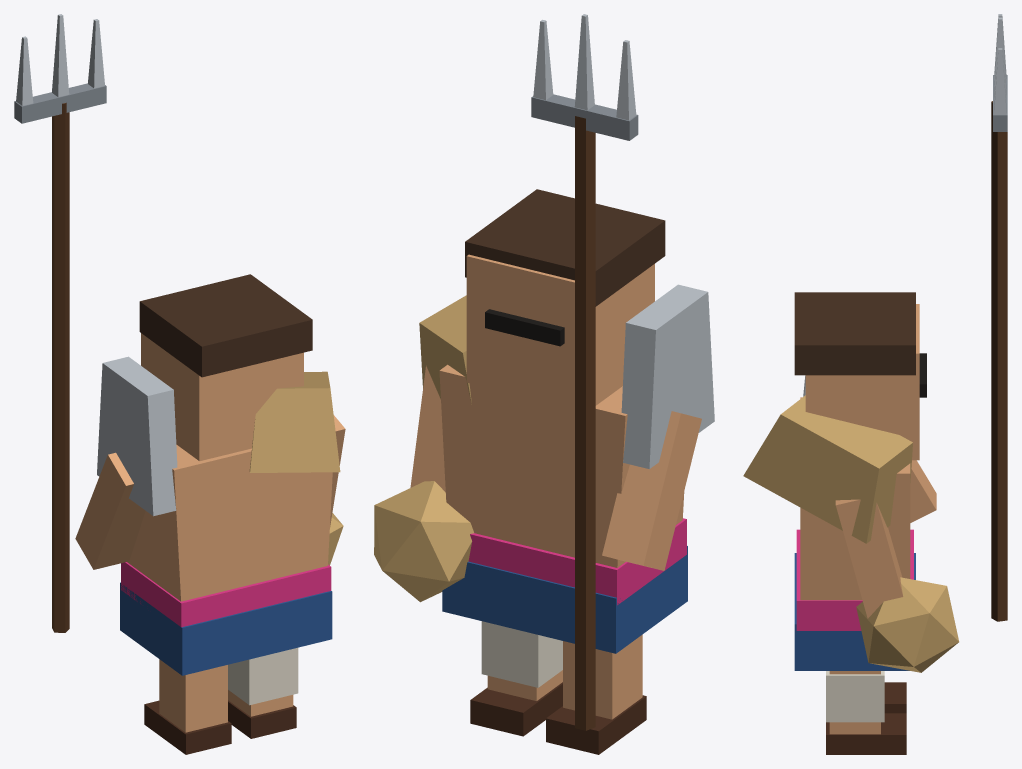
The model's file is EN_NetThrower.fbx.
3 views of the same model, side by side, from view 1: azimuth 30°, elevation 25°; view 2: azimuth 150°, elevation 25°; view 3: azimuth 270°, elevation 25° (orthographic). The views are drawn at different scales.
Visible parts, largest first — view 1: Body, Hair, Loin, Head, Trident, Galerus, Bundle, Belt, ArmL, LegL, Wrap, FootL (+6 smaller); view 2: Body, Head, Trident, Galerus, Loin, Hair, HandNet, ArmL, Belt, Wrap, LegL, Bundle (+9 smaller); view 3: Bundle, Hair, Trident, HandNet, Head, Body, ArmR, Loin, Wrap, Belt, FootR, ArmL (+3 smaller).
Part boxes in pixels (box(x1,y1,x2,y2)): Body: box(127, 444, 332, 601); Hair: box(139, 274, 312, 377); Loin: box(120, 582, 332, 675); Head: box(141, 333, 303, 461); Trident: box(52, 102, 69, 632); Galerus: box(97, 356, 177, 516); Bundle: box(249, 371, 340, 472); Belt: box(121, 562, 331, 627); ArmL: box(75, 452, 145, 569); LegL: box(159, 659, 227, 732); Wrap: box(228, 647, 298, 705); FootL: box(144, 700, 231, 754); Body: box(439, 364, 684, 567); Head: box(466, 254, 654, 408); Trident: box(575, 116, 595, 730); Galerus: box(621, 284, 714, 469); Loin: box(442, 546, 687, 653); Hair: box(465, 189, 665, 306); HandNet: box(374, 481, 473, 602); ArmL: box(602, 411, 701, 570); Belt: box(468, 518, 686, 605); Wrap: box(481, 621, 562, 687); LegL: box(563, 634, 642, 719); Bundle: box(419, 295, 471, 404); Bundle: box(743, 395, 912, 543); Hair: box(794, 292, 915, 375); Trident: box(991, 101, 1007, 621); HandNet: box(856, 577, 959, 672); Head: box(805, 304, 919, 460); Body: box(800, 397, 910, 600); ArmR: box(835, 499, 903, 618); Loin: box(794, 553, 915, 670); Wrap: box(826, 671, 884, 722); Belt: box(796, 529, 913, 630); FootR: box(826, 713, 906, 754); ArmL: box(910, 460, 936, 522).
Bounding box in the file's own units: 0.8242 × 0.7201 × 2.
